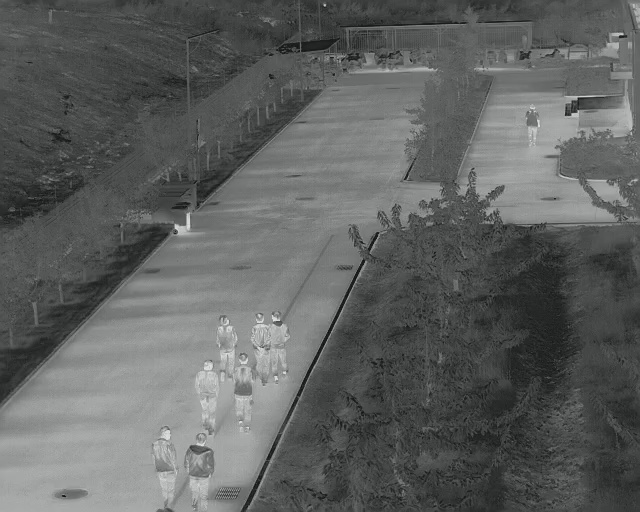person: (152, 427, 177, 512), (185, 434, 212, 512), (195, 361, 220, 434), (234, 353, 253, 436), (270, 311, 288, 385), (252, 314, 270, 386), (217, 316, 234, 382), (525, 103, 540, 147)
